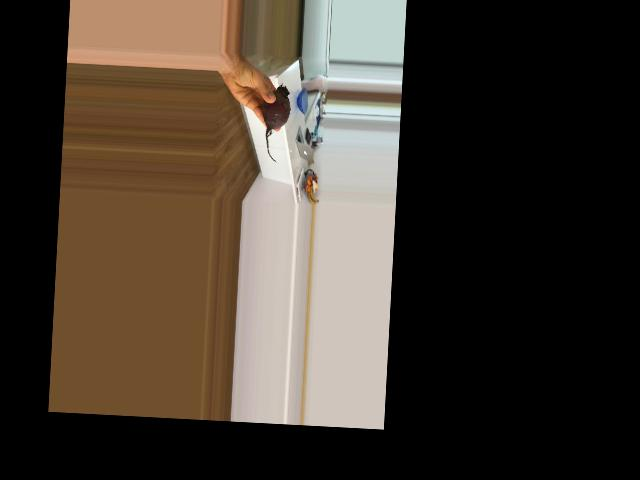beet: (259, 83, 291, 162)
